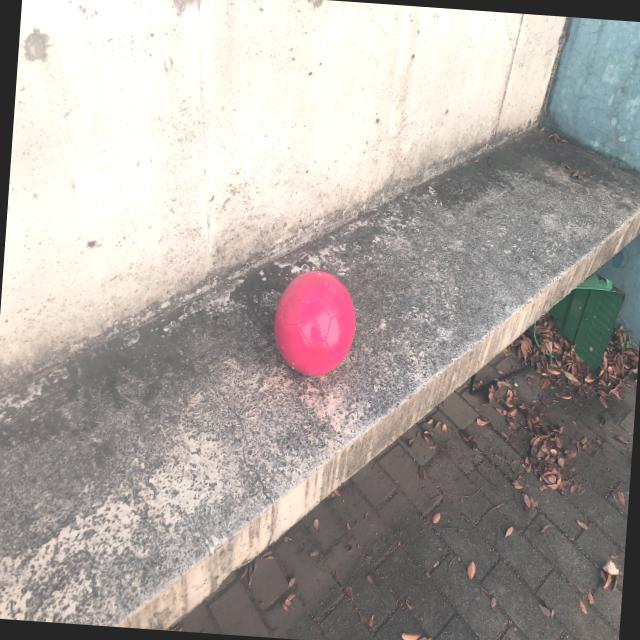red_ball: (270, 265, 360, 379)
